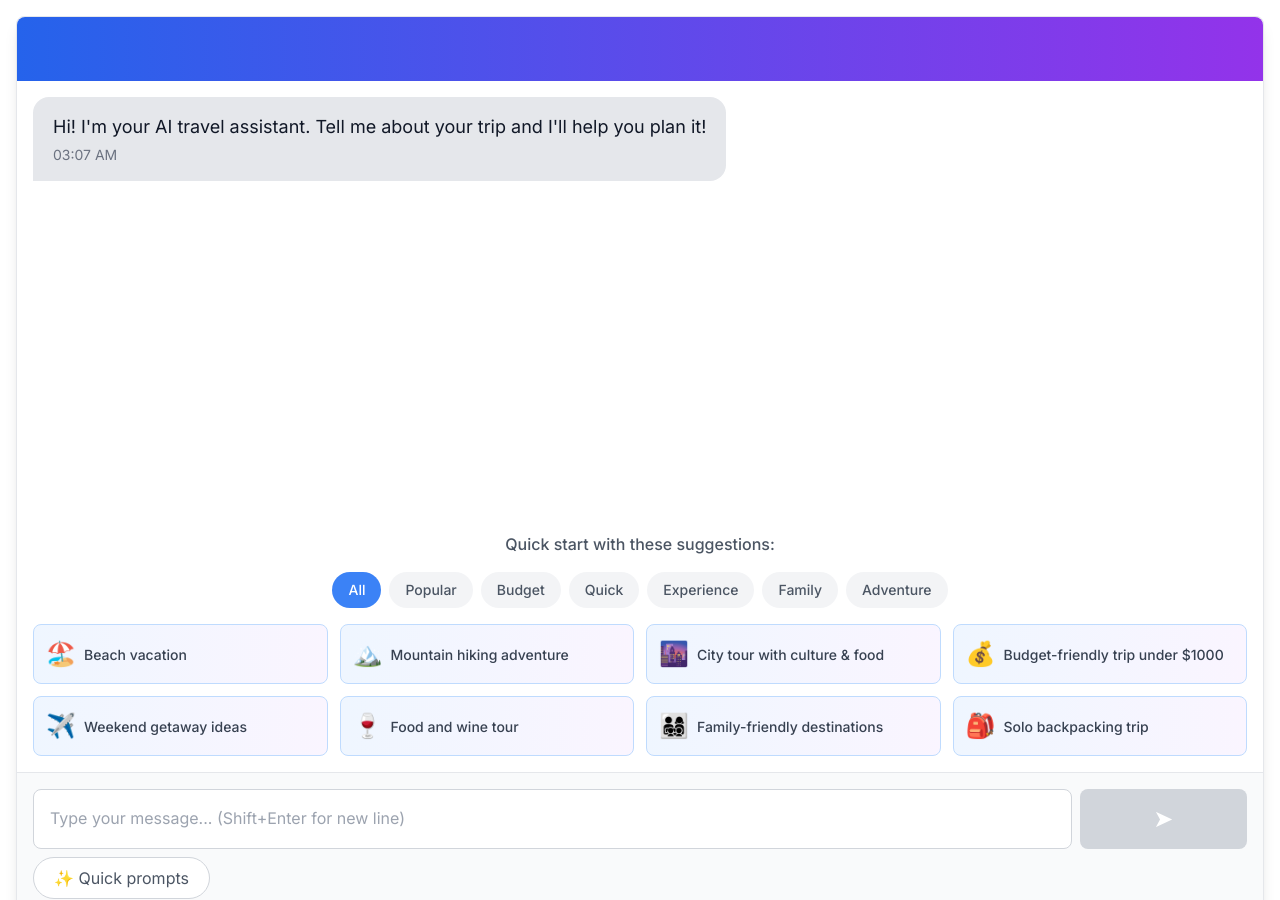
Test: ChatInterface › AI Response › displays AI response after sending message
The image size is (1280, 900).
In the text box with placeholder "Type your message... (Shift+Enter for new line)": {"x": 552, "y": 819} 33,789 -> 1072,849, type "Hello"
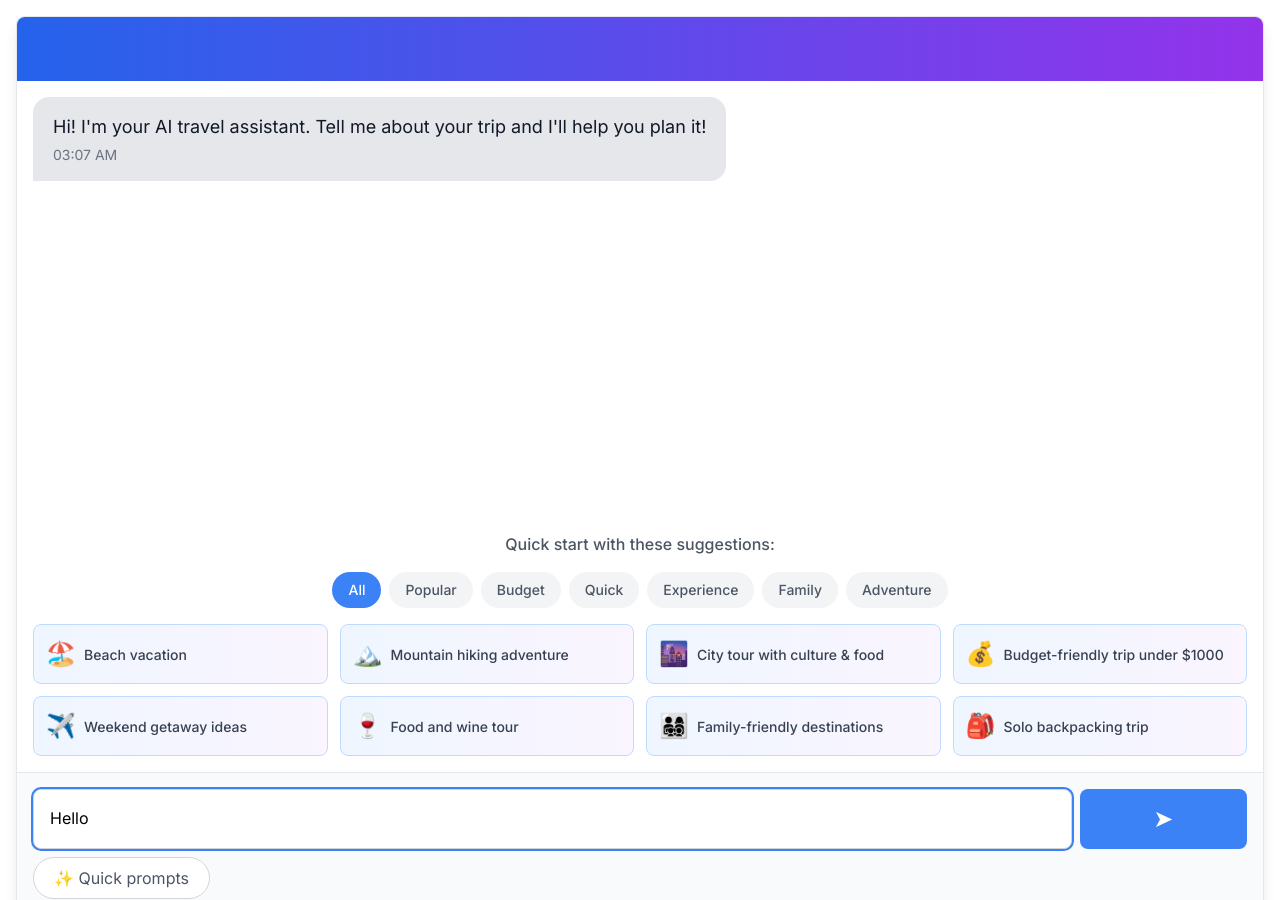
Click the button named "send message": {"x": 1163, "y": 819} 1080,789 -> 1247,849
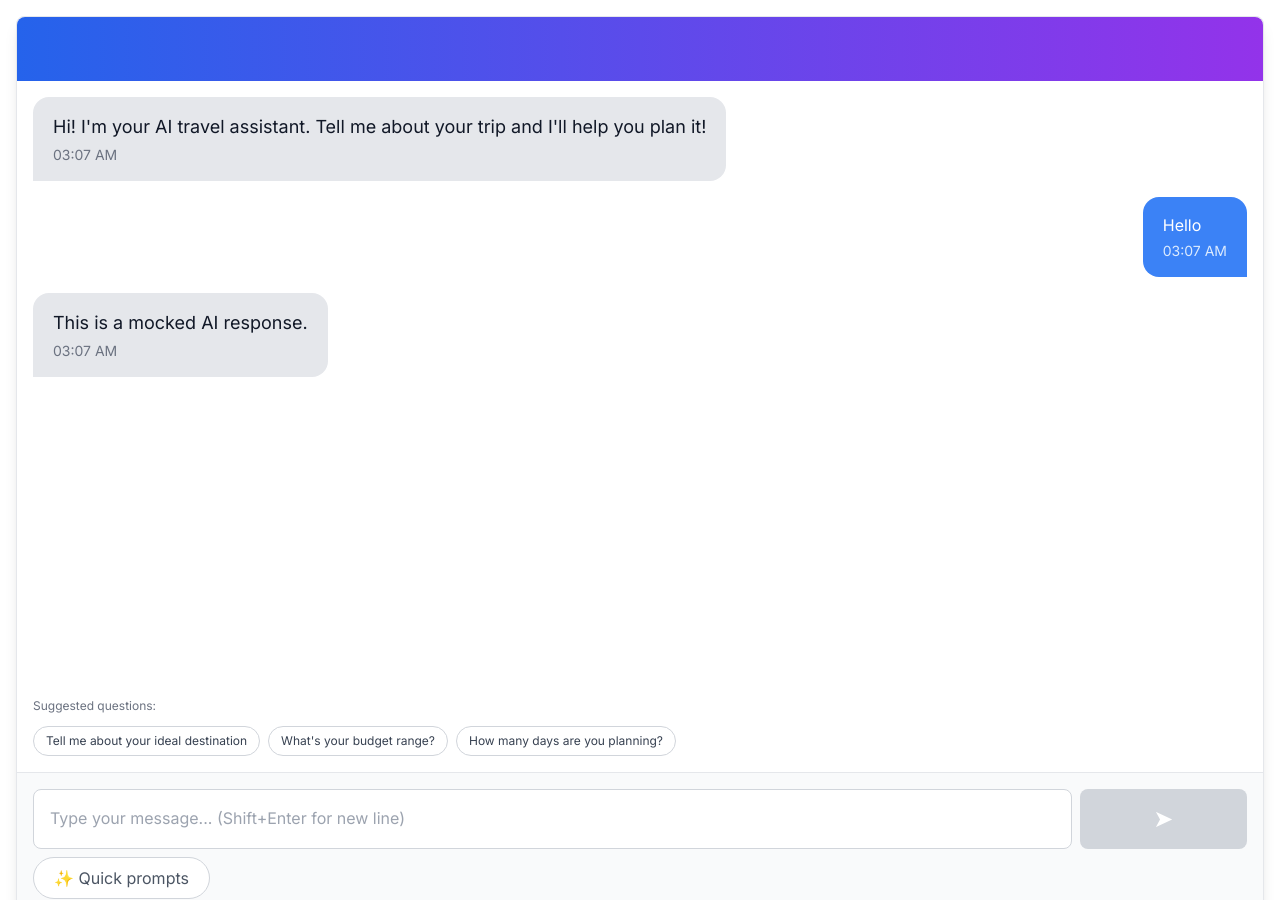
expect the text "This is a mocked AI response." is shown: met, box 53,309 -> 308,337
